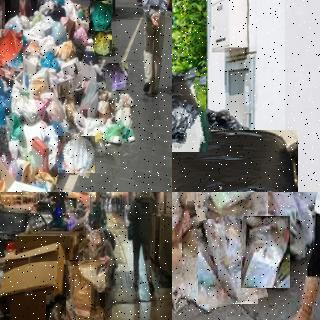Garbage: (192, 192, 263, 306), (172, 129, 297, 192), (242, 216, 290, 288), (172, 71, 209, 156), (65, 260, 105, 320), (199, 192, 273, 220), (56, 134, 98, 176), (43, 293, 96, 320), (0, 29, 23, 68), (89, 1, 112, 35), (105, 62, 129, 91), (94, 31, 112, 56)
